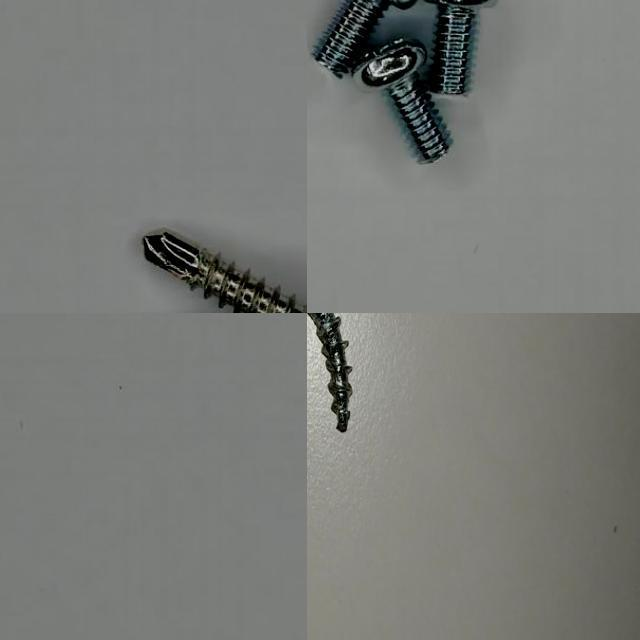Dry Waste: (11, 0, 640, 508)
